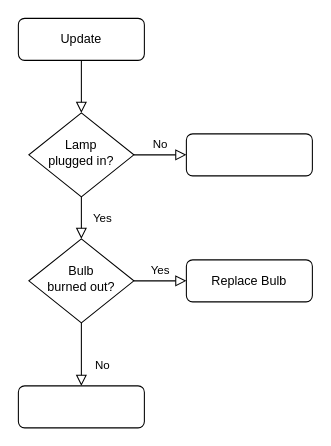
Some shapes in this 331 by 446 pixel diagram are drawn without their labels. Here are the shapes that lost their labels. From the top down, the centre of each, then its label:
At point (248, 154): "Plug in lamp".
At point (80, 406): "Repair Lamp".
